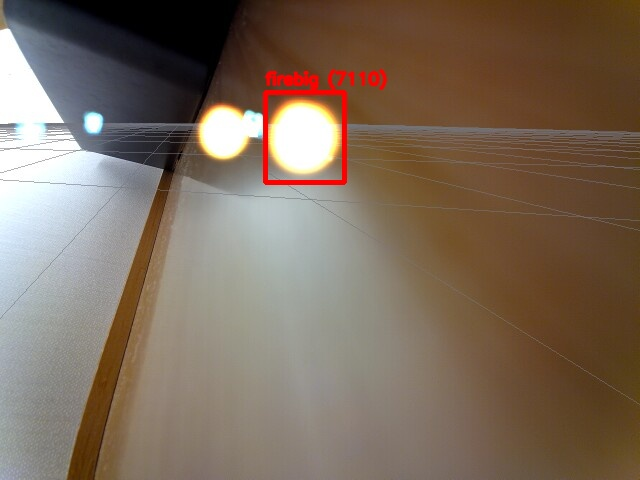firebig: (265, 92, 344, 182)
